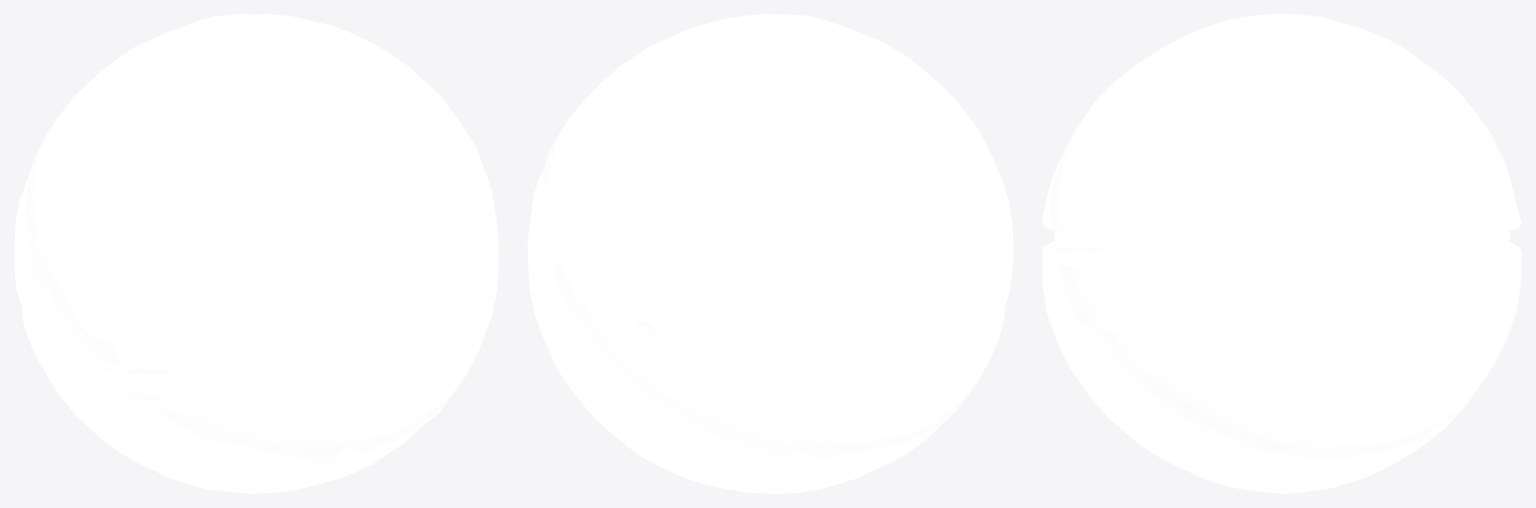
The model's file is esfera-captura.glb.
3 views of the same model, side by side, from view 1: azimuth 30°, elevation 25°; view 2: azimuth 150°, elevation 25°; view 3: azimuth 270°, elevation 25° (orthographic).
Visible parts, largest first — view 1: mesh_node; view 2: mesh_node; view 3: mesh_node.
Boxes of the visible parts, <box> form: mesh_node: <box>14,14,498,493</box>; mesh_node: <box>527,14,1013,493</box>; mesh_node: <box>1042,14,1521,493</box>.
Size of the model in its own units: 1 by 1 by 1.
1 material, 1 textured.
